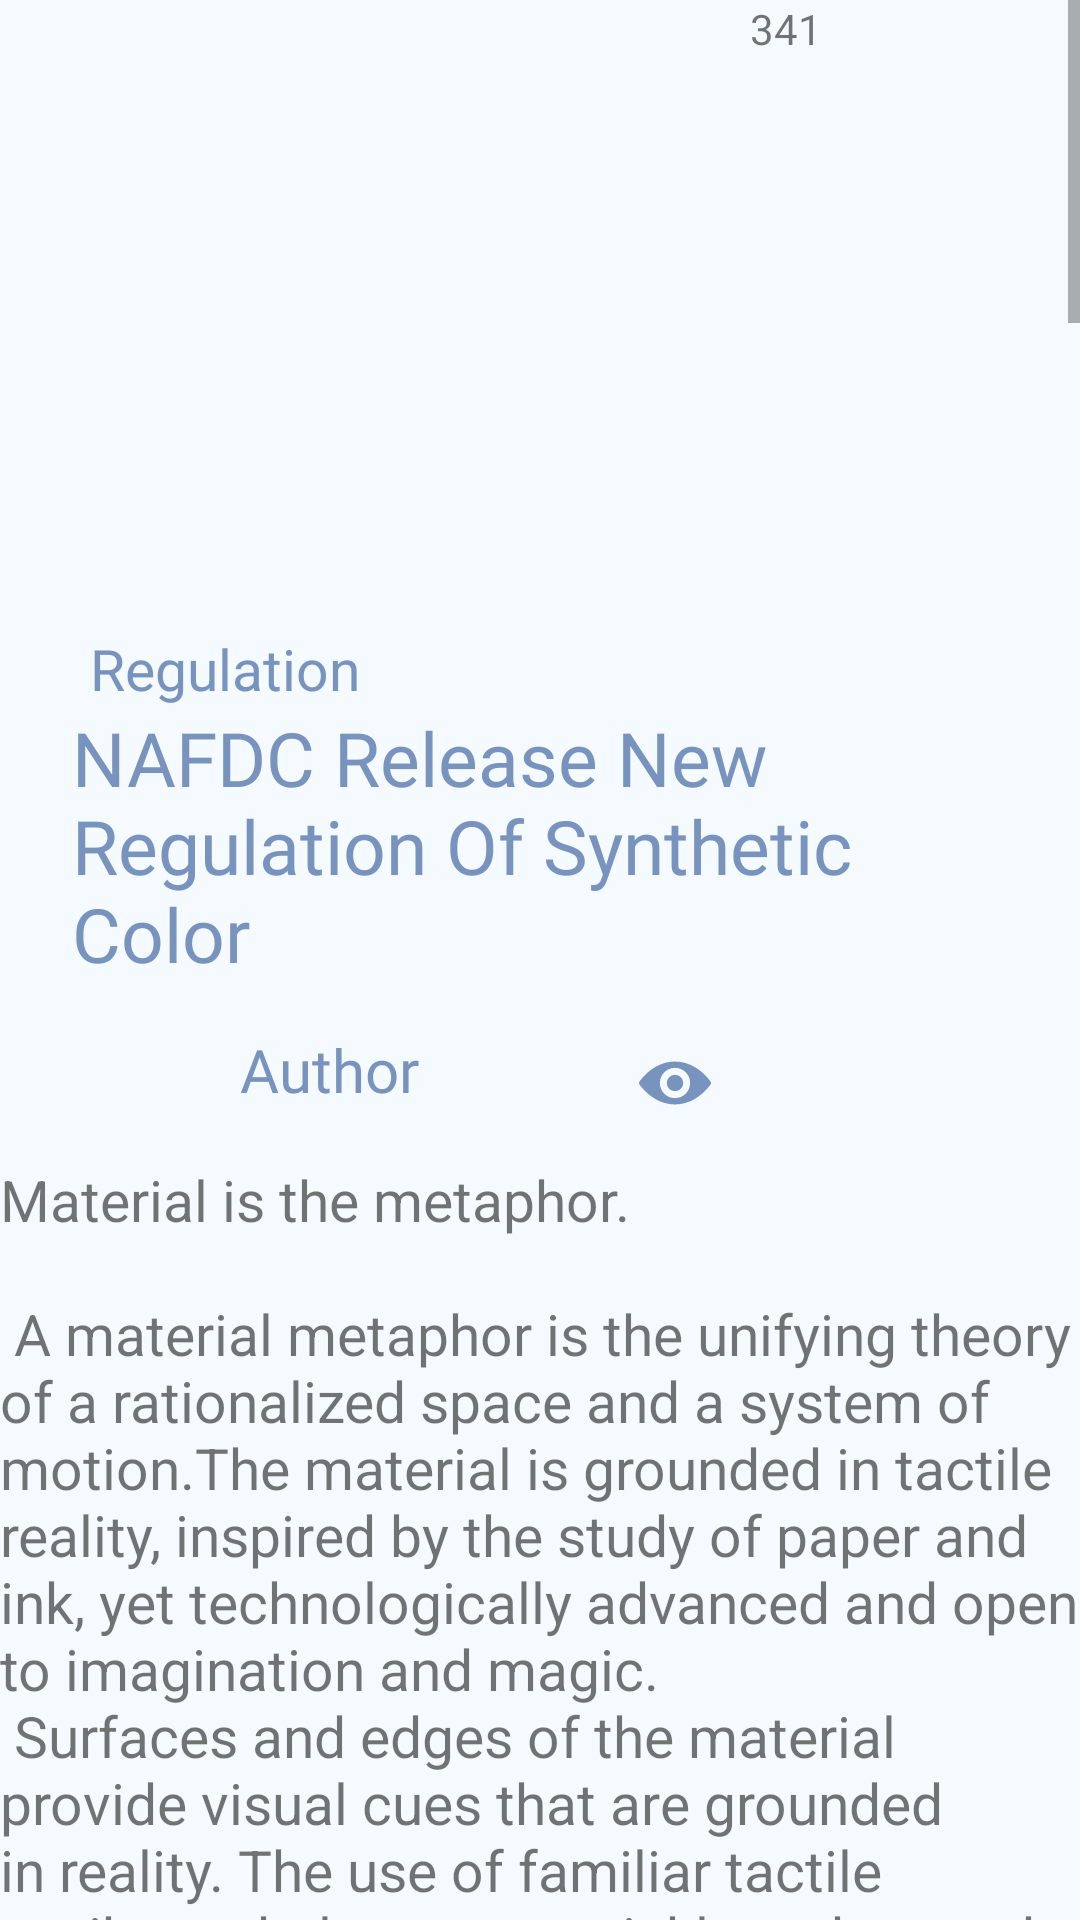

Screen size 1080x1920. Icon name, then its center in pixels as (x=x, y=y):
eye: (x=675, y=1083)
